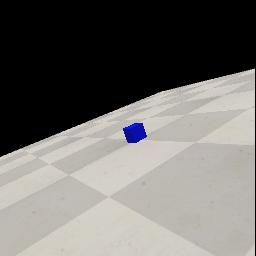box: (123, 123, 147, 143)
